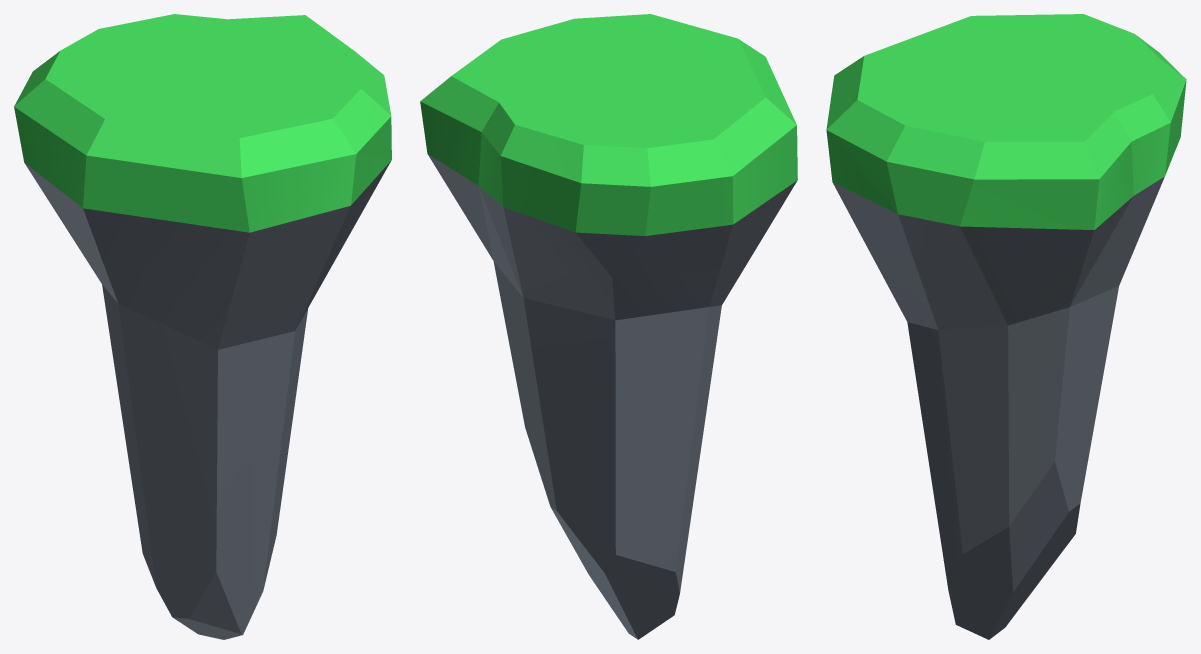
The model's file is testmodelsisland_Island_005_001.fbx.
The picture shows the model from 3 angles, left to right: view 1: azimuth 30°, elevation 25°; view 2: azimuth 150°, elevation 25°; view 3: azimuth 270°, elevation 25°; orthographic projection.
Parts seen in each view (by area): view 1: island_Island_005.001; view 2: island_Island_005.001; view 3: island_Island_005.001.
Part boxes in pixels (bbox=[...]): island_Island_005.001: bbox=[14, 14, 391, 639]; island_Island_005.001: bbox=[420, 14, 797, 639]; island_Island_005.001: bbox=[826, 14, 1186, 639].
Bounding box in the file's own units: 414 × 713 × 414.
